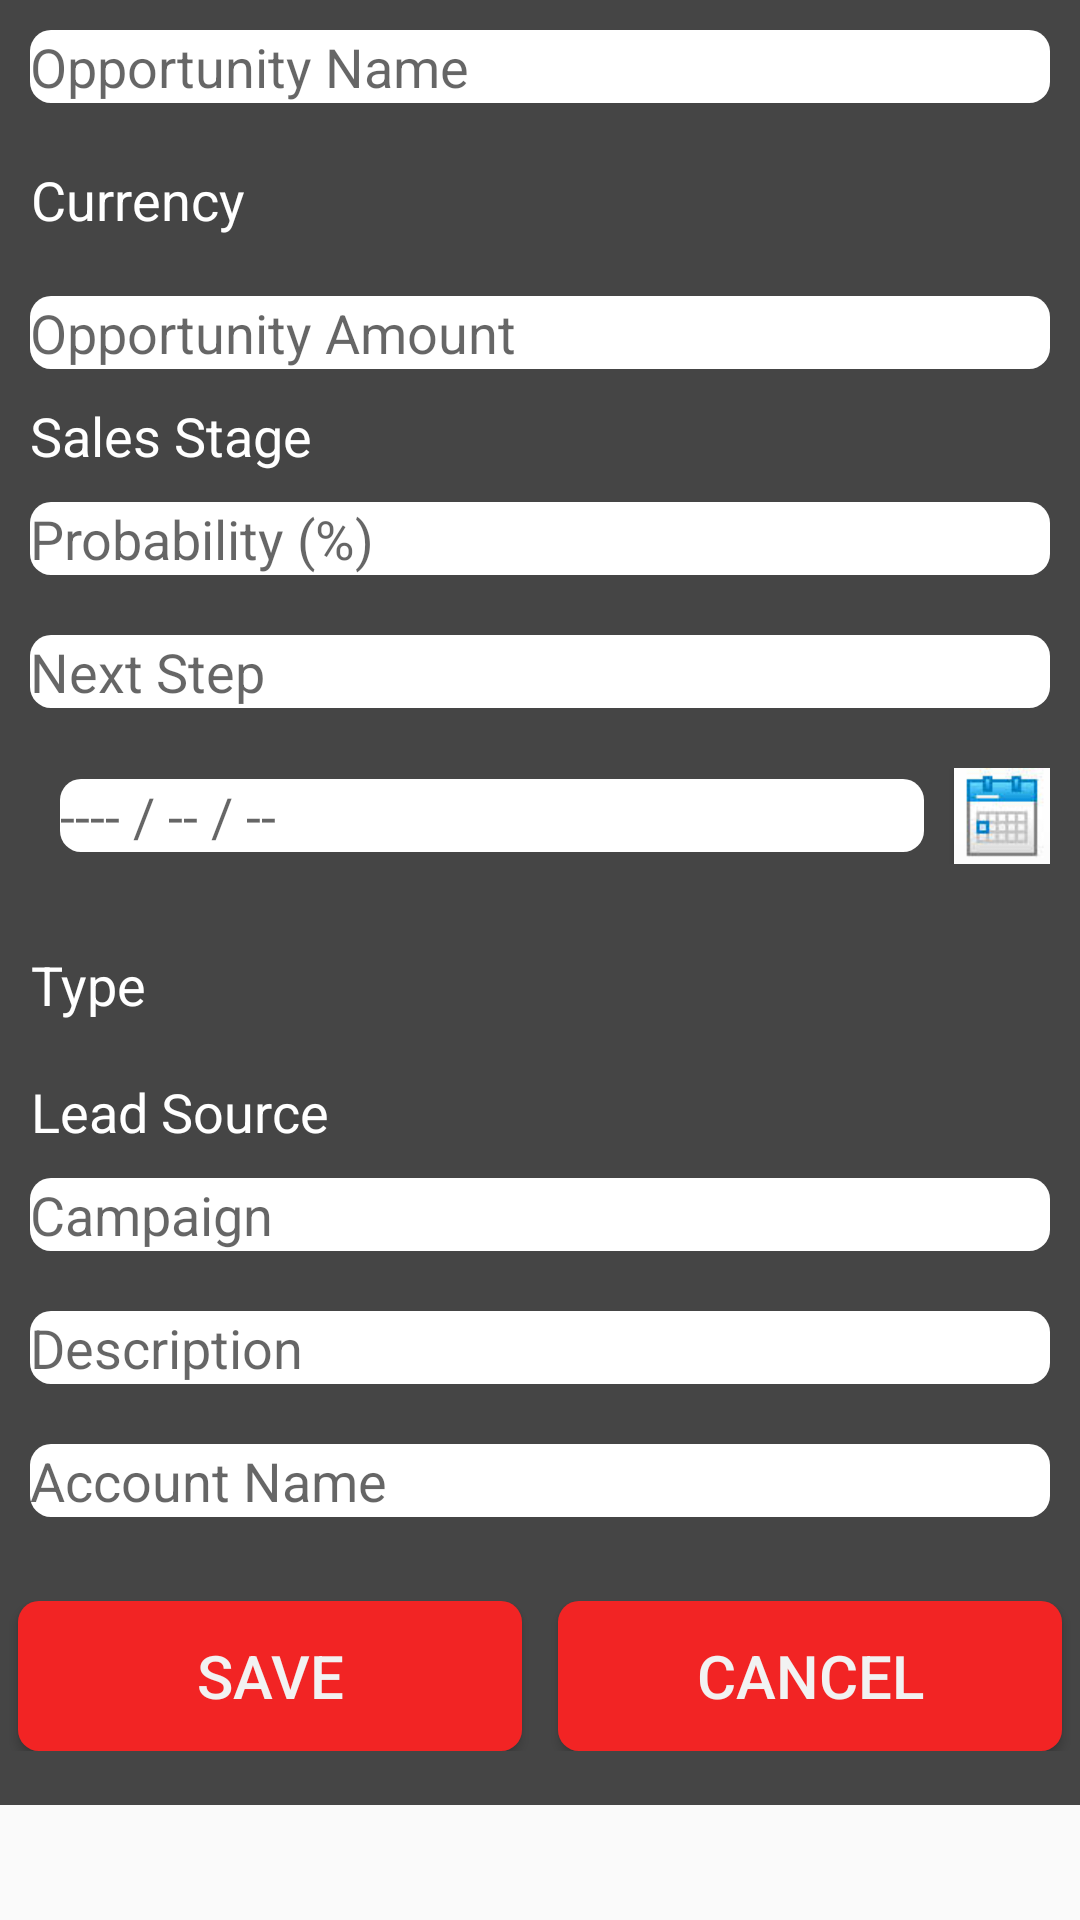

Screen size 1080x1920. Icon name, then its box in pixels as (x1, y1, x2, y2):
date picker: (954, 768, 1050, 864)
